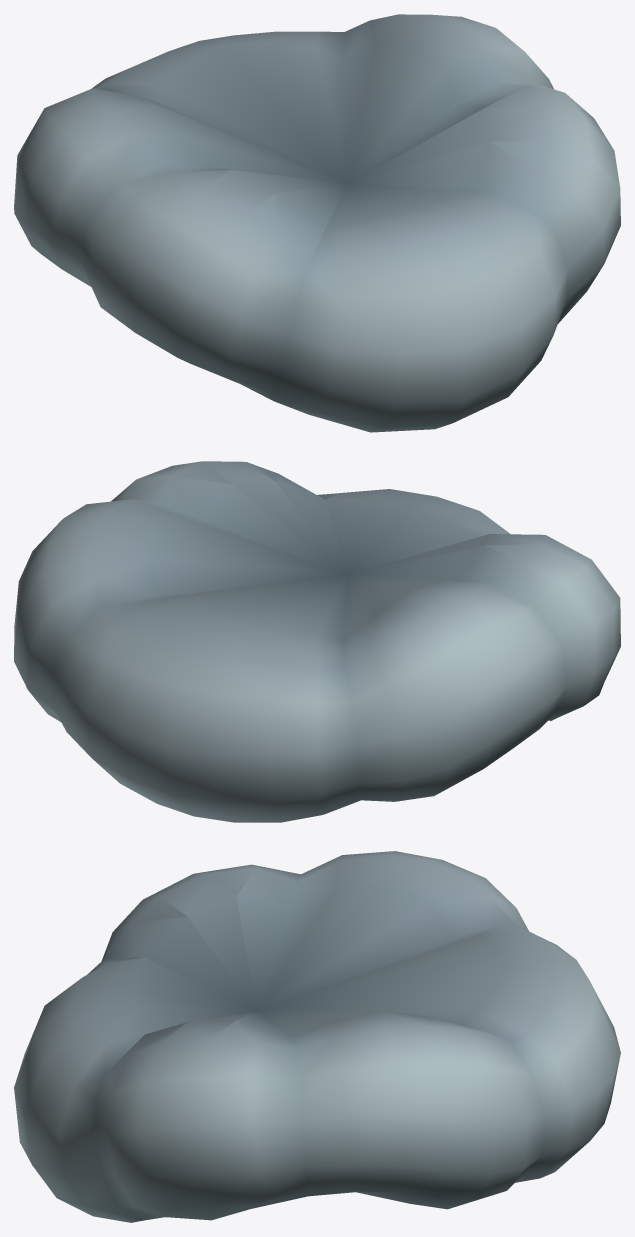
File: Scarf_Luigi.fbx
3 views of the same model, one above another, from view 1: azimuth 30°, elevation 25°; view 2: azimuth 150°, elevation 25°; view 3: azimuth 270°, elevation 25° (orthographic).
Visible parts, largest first — view 1: mesh-8; view 2: mesh-8; view 3: mesh-8.
Part boxes in pixels (box(x1,y1,x2,y2)): mesh-8: box(14, 14, 620, 432); mesh-8: box(14, 461, 620, 822); mesh-8: box(14, 851, 620, 1222).
Size of the model in its own units: 430 by 205 by 447.
